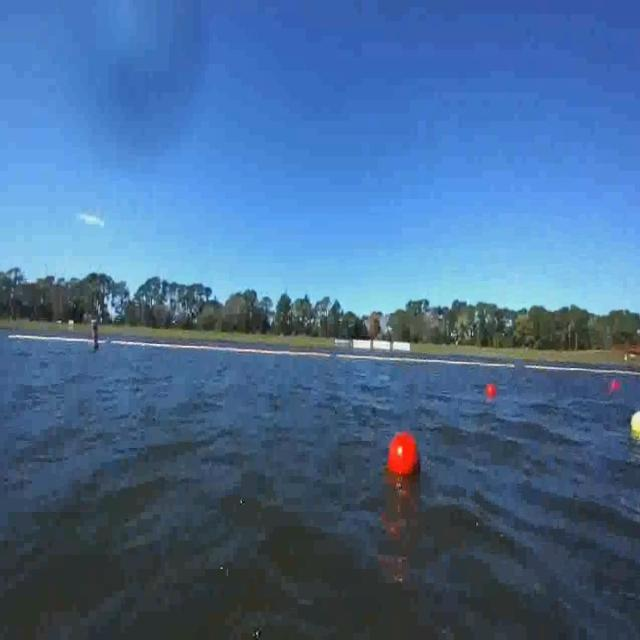red-buoy: (387, 430, 421, 480), (486, 382, 498, 397)
yellow-buoy: (631, 412, 640, 438)
